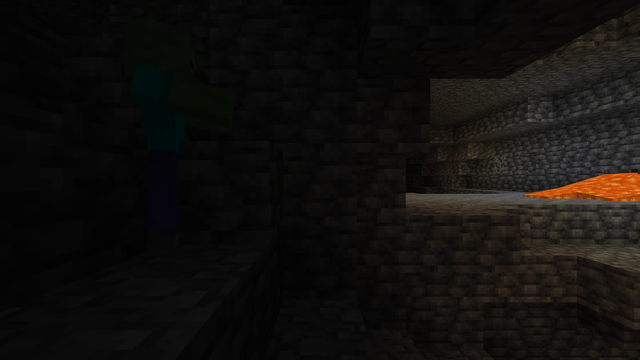zombies: (109, 24, 209, 251)
